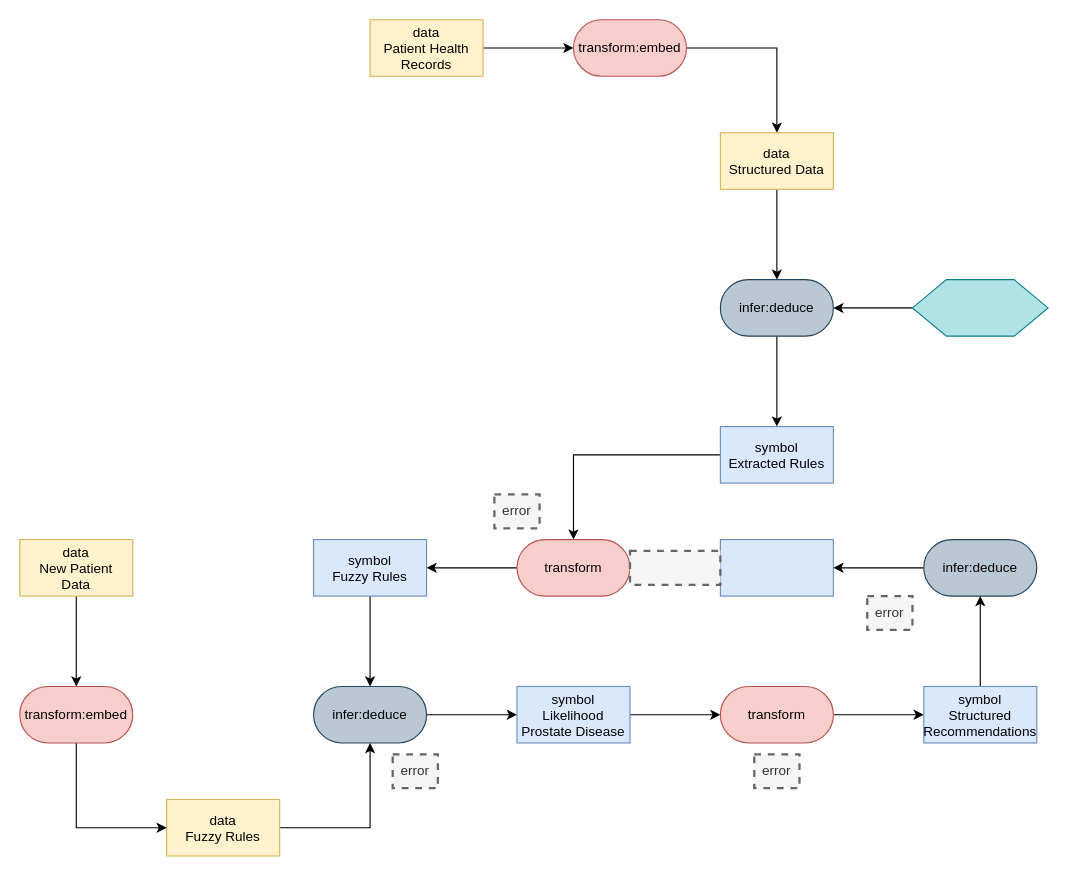
Some shapes in this 1068 by 876 pixel diagram are drawn without their labels. Each missing label, with the centre of its shape:
error <--: the point at 674,567
model:statistical J48 Algorithm: the point at 979,307
symbol New Rules: the point at 776,567
